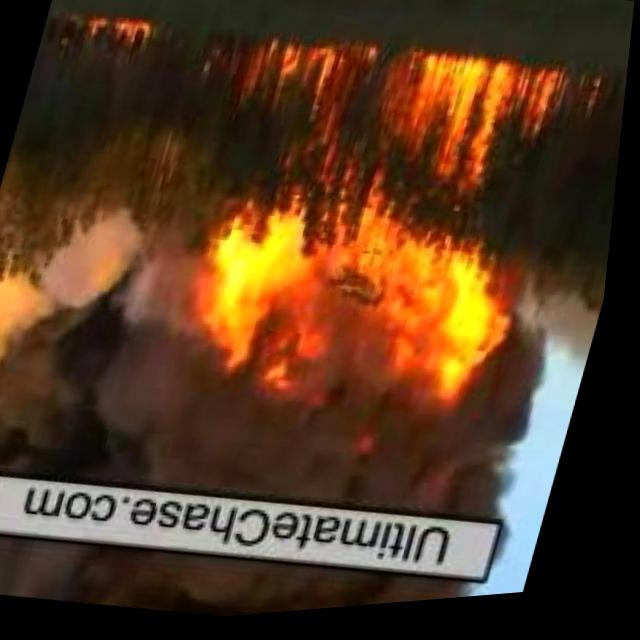fire: (170, 27, 580, 453), (70, 8, 156, 62)
